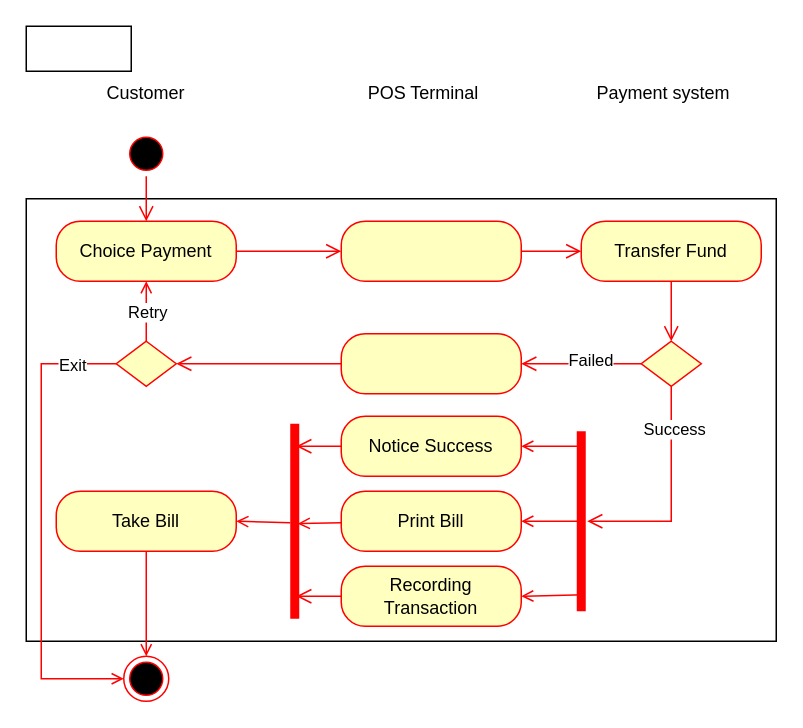
Image size: 803x728. Some labels were removed from this diagram. Each missing label, with the centre of its shape:
Notice Failed: point (430, 363)
Payment: point (78, 48)
Send Payment Request: point (430, 250)
